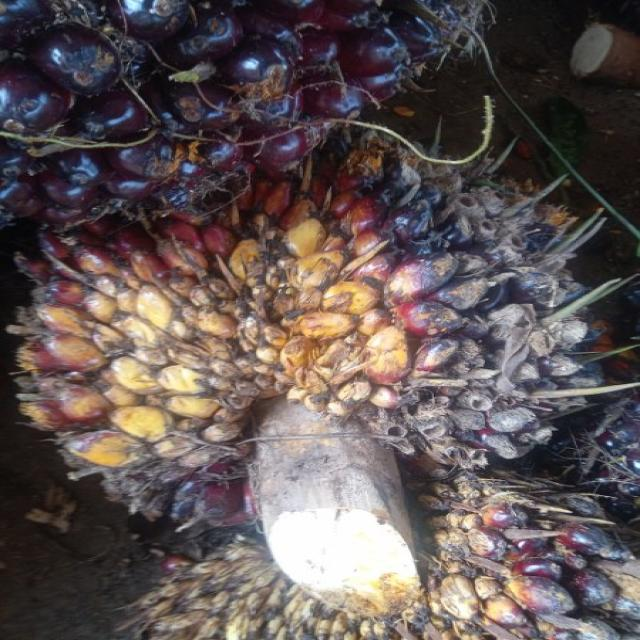fraksi 00: (21, 129, 592, 507)
